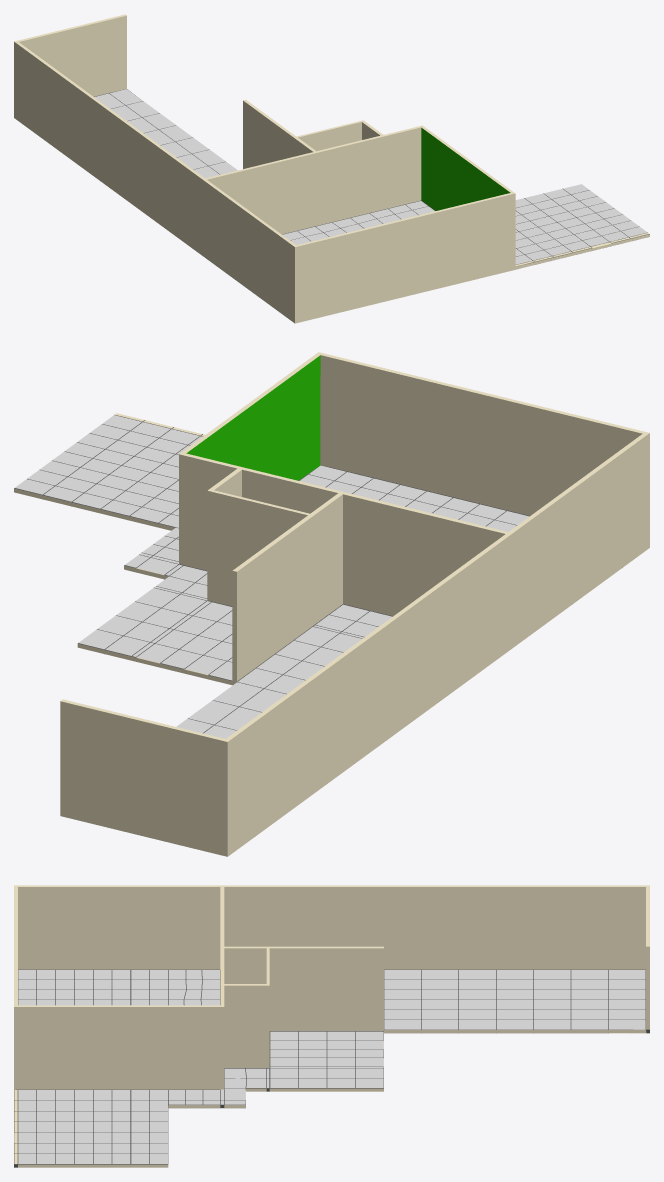
The model's file is Salle_A.fbx.
3 renders of one model, top to bottom at view 1: azimuth 30°, elevation 25°; view 2: azimuth 150°, elevation 25°; view 3: azimuth 270°, elevation 25°, orthographic. The views are drawn at different scales.
Visible parts, largest first — view 1: Salle_A; view 2: Salle_A; view 3: Salle_A.
Boxes of the visible parts, x1=… form: Salle_A: x1=14, y1=14, x2=649, y2=323; Salle_A: x1=14, y1=352, x2=649, y2=856; Salle_A: x1=14, y1=885, x2=649, y2=1167.
Size of the model in its own units: 1171 by 241 by 1606.
